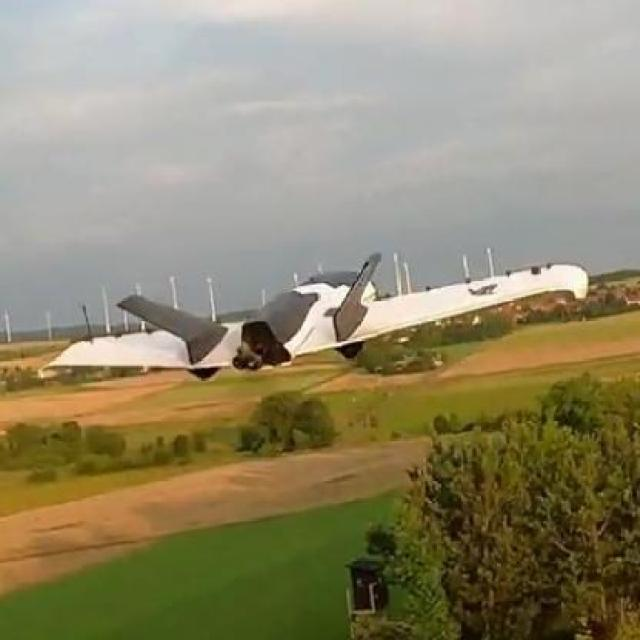iha: (42, 244, 602, 408)
